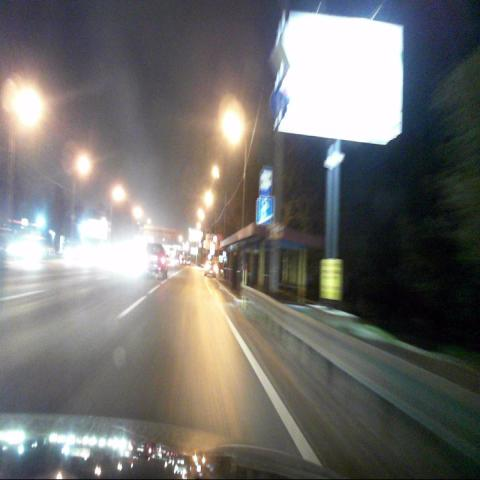6_6: (259, 195, 275, 224)
